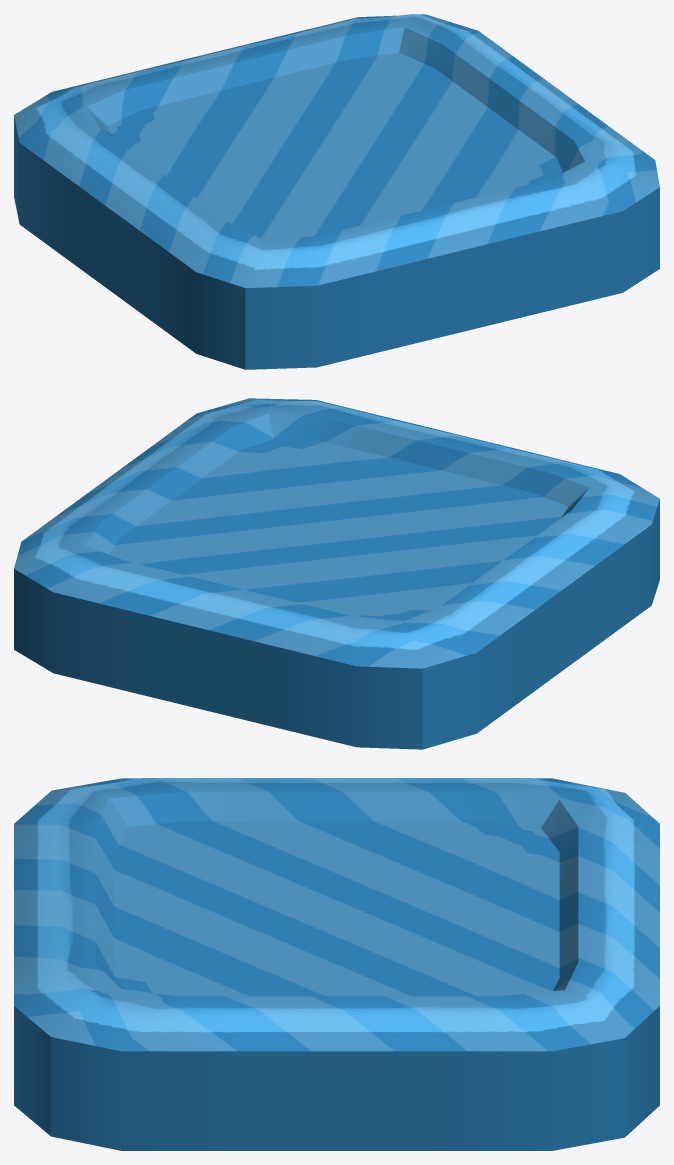
The model's file is stageselect_stage_blue.fbx.
3 renders of one model, top to bottom at view 1: azimuth 30°, elevation 25°; view 2: azimuth 150°, elevation 25°; view 3: azimuth 270°, elevation 25°, orthographic. The views are drawn at different scales.
Visible parts, largest first — view 1: stagee_01; view 2: stagee_01; view 3: stagee_01.
Part boxes in pixels (<box>): stagee_01: <box>14,14,659,369</box>; stagee_01: <box>14,398,659,749</box>; stagee_01: <box>14,778,659,1150</box>.
Size of the model in its own units: 0.7284 by 0.1493 by 0.7284.
Materials: 1 (1 with a texture image).
